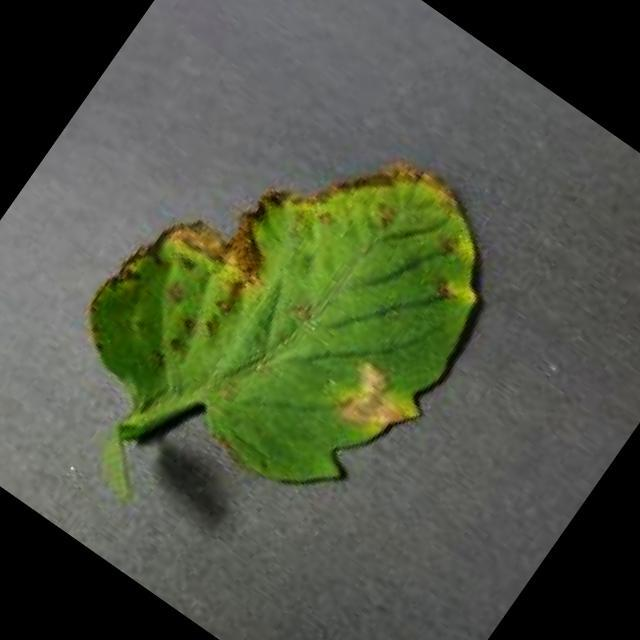Tomato bacterial spot leaf: (17, 28, 566, 590)
